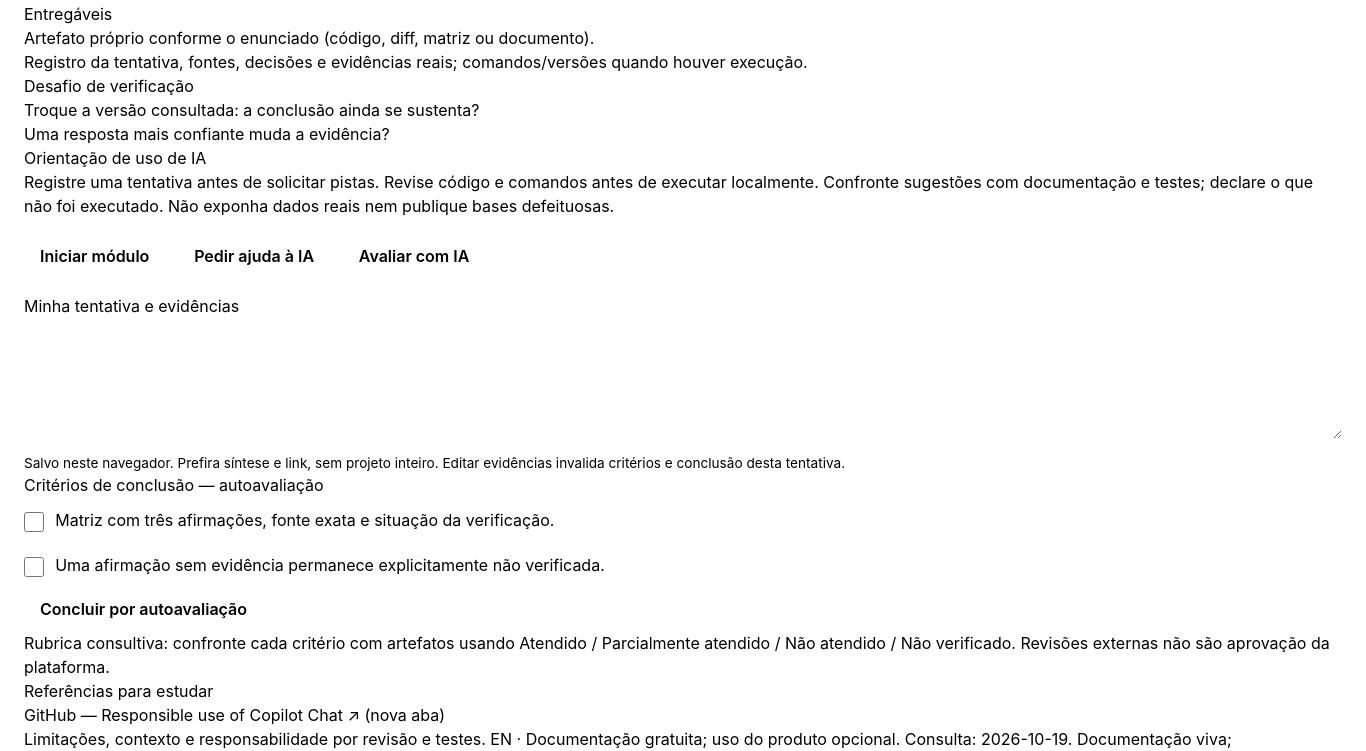
Test: Engenharia com IA: estado declarado e isolado › mostra falha de escrita sem perder texto em memória
(page scrolled)
Type "Preservar" into the text box labelled "Minha tentativa e evidências" at (683, 382), box [24, 325, 1342, 439]
(page scrolled)
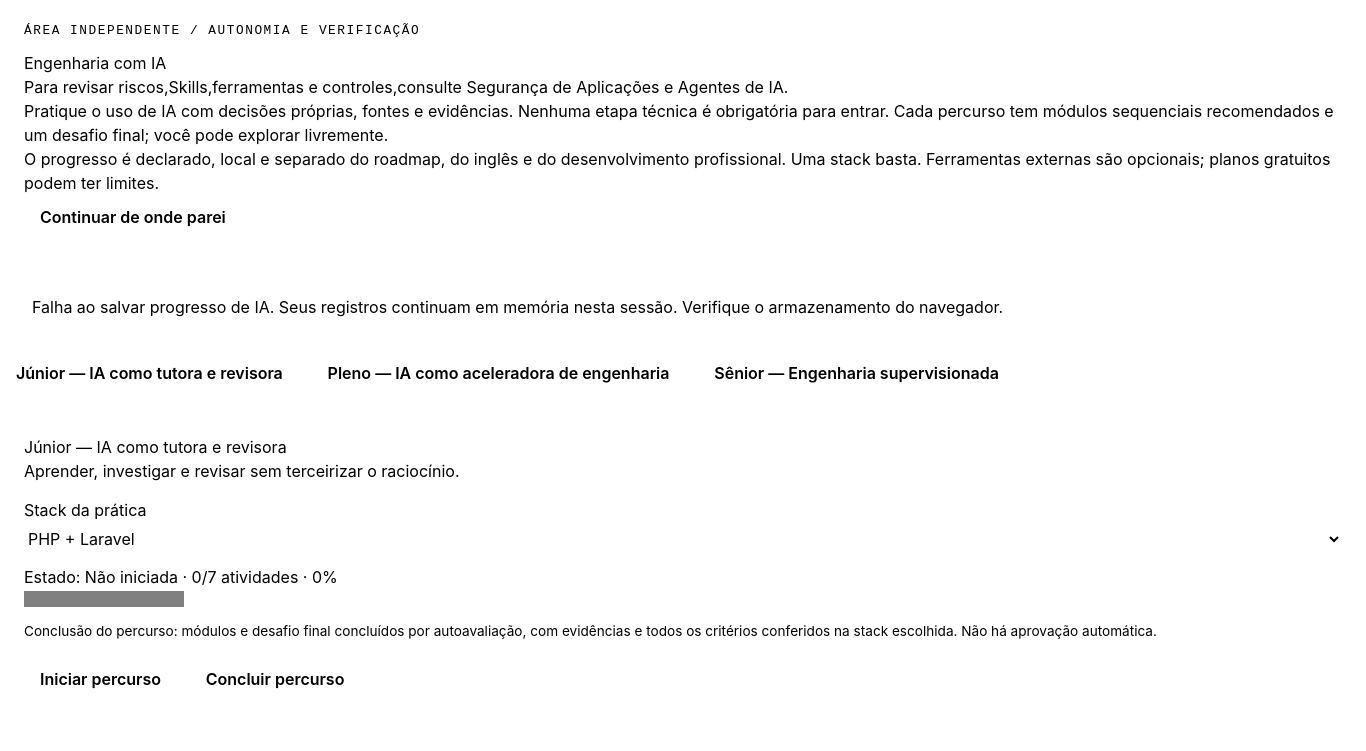
Result: the message shows "memória" at [32, 297, 1003, 317]
